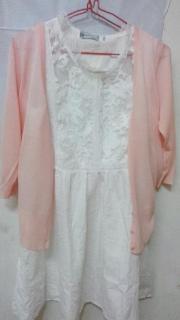long sleeve outwear: (0, 21, 176, 254)
vest: (9, 11, 157, 320)
